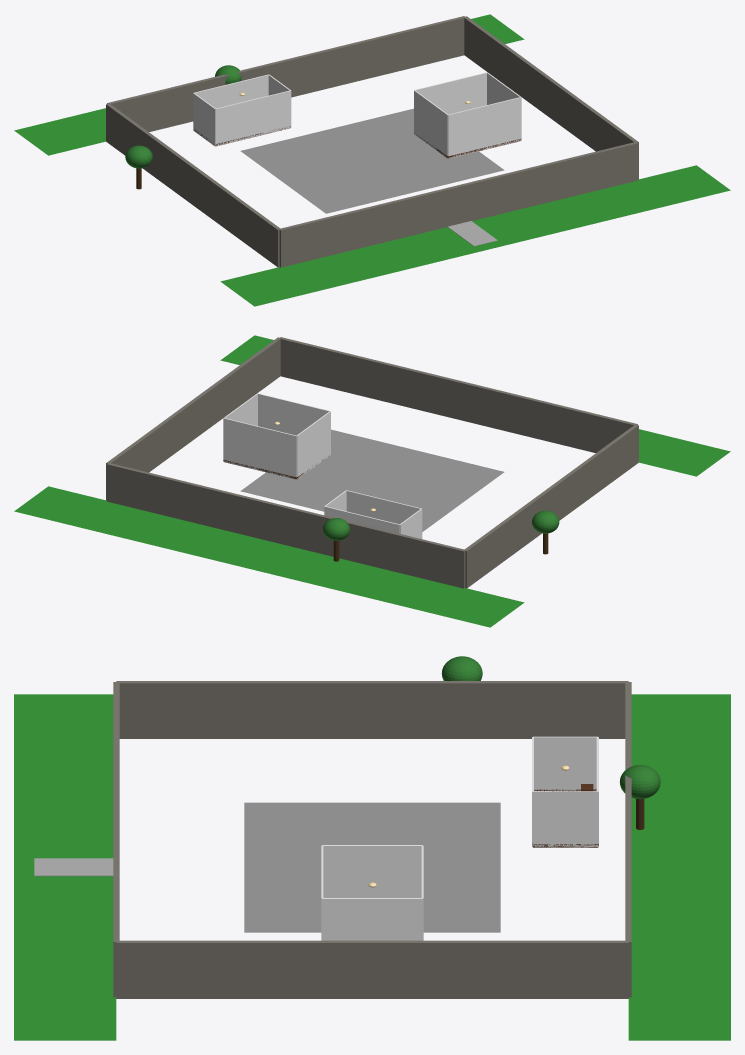
Rendered from enhanced_boq_4e414a63-795f-4f9a-972e-c6da6f0037c7.obj.
3 views of the same model, one above another, from view 1: azimuth 30°, elevation 25°; view 2: azimuth 150°, elevation 25°; view 3: azimuth 270°, elevation 25° (orthographic). The views are drawn at different scales.
Parts seen in each view (by area): view 1: FrontYard, ExteriorWall_South, Foundation, ExteriorWall_North, ExteriorWall_West, ExteriorWall_East, SouthWall_Living_Room, BackYard, SouthWall_Kitchen, NorthWall_Living_Room, WestWall_Living_Room, NorthWall_Kitchen (+4 smaller); view 2: BackYard, ExteriorWall_North, ExteriorWall_South, Foundation, ExteriorWall_West, ExteriorWall_East, NorthWall_Living_Room, FrontYard, SouthWall_Living_Room, WestWall_Living_Room, SouthWall_Kitchen, NorthWall_Kitchen (+4 smaller); view 3: BackYard, FrontYard, ExteriorWall_East, ExteriorWall_West, Foundation, WestWall_Living_Room, EastWall_Living_Room, EastWall_Kitchen, WestWall_Kitchen, ExteriorWall_South, ExteriorWall_North, Pathway (+2 smaller).
Boxes of the visible parts, x1,y1,x2,y2 form: FrontYard: (220,165,730,306); ExteriorWall_South: (279,142,637,267); Foundation: (240,108,504,213); ExteriorWall_North: (107,16,465,131); ExteriorWall_West: (106,104,280,267); ExteriorWall_East: (464,16,638,179); SouthWall_Living_Room: (448,97,521,158); BackYard: (14,14,524,155); SouthWall_Kitchen: (215,90,290,146); NorthWall_Living_Room: (414,72,487,114); WestWall_Living_Room: (414,90,448,158); NorthWall_Kitchen: (193,74,268,108); BackYard: (14,486,524,627); ExteriorWall_North: (107,463,465,588); ExteriorWall_South: (279,337,637,452); Foundation: (240,429,504,531); ExteriorWall_West: (464,425,638,588); ExteriorWall_East: (106,337,280,500); NorthWall_Living_Room: (223,418,296,479); FrontYard: (220,335,730,476); SouthWall_Living_Room: (257,393,330,435); WestWall_Living_Room: (296,411,330,479); SouthWall_Kitchen: (346,490,421,524); NorthWall_Kitchen: (324,506,399,533); BackYard: (628,694,730,1040); FrontYard: (14,694,116,1040); ExteriorWall_East: (116,940,628,998); ExteriorWall_West: (116,681,628,738); Foundation: (244,802,500,932); WestWall_Living_Room: (322,845,422,897); EastWall_Living_Room: (322,898,422,940); EastWall_Kitchen: (533,791,597,847); WestWall_Kitchen: (533,736,597,791); ExteriorWall_South: (113,682,119,997); ExteriorWall_North: (625,682,631,997); Pathway: (34,858,113,876).
Bounding box in the file's own units: 40 × 3.5 × 35.
